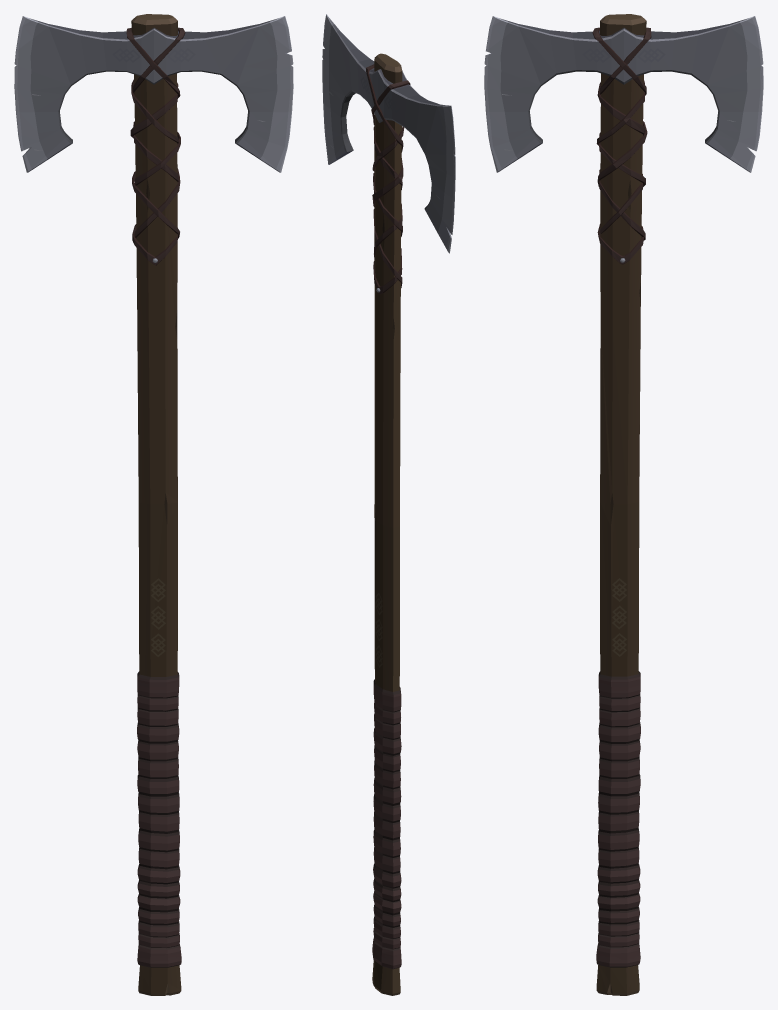
Rendered from bluntHeavyTwoHandedVikingAxe.glb.
3 views of the same model, side by side, from view 1: azimuth 90°, elevation 25°; view 2: azimuth 210°, elevation 25°; view 3: azimuth 270°, elevation 25° (orthographic). The views are drawn at different scales.
Visible parts, largest first — view 1: bluntHeavyTwoHandedVikingAxe; view 2: bluntHeavyTwoHandedVikingAxe; view 3: bluntHeavyTwoHandedVikingAxe.
Boxes of the visible parts, x1,y1,x2,y2 form: bluntHeavyTwoHandedVikingAxe: [14, 14, 293, 995]; bluntHeavyTwoHandedVikingAxe: [322, 14, 455, 995]; bluntHeavyTwoHandedVikingAxe: [484, 14, 763, 995].
Size of the model in its own units: 0.0394 by 1.27 by 0.3301.
